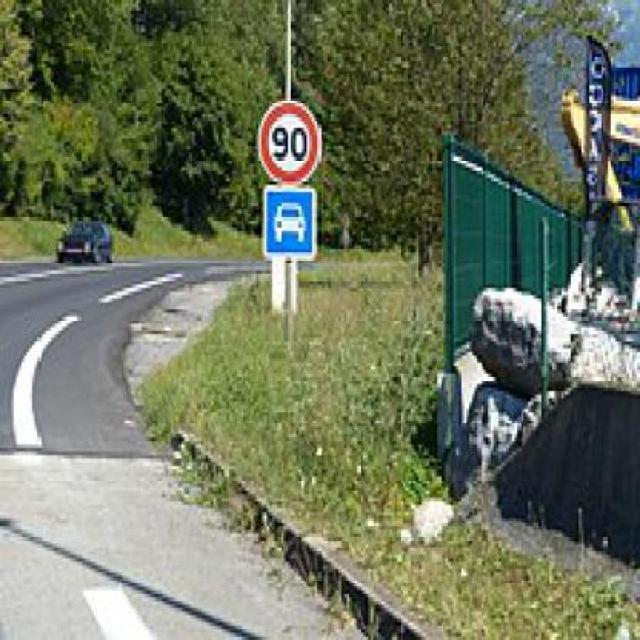Ograniczenie predkosci do 90: (260, 98, 322, 184)
